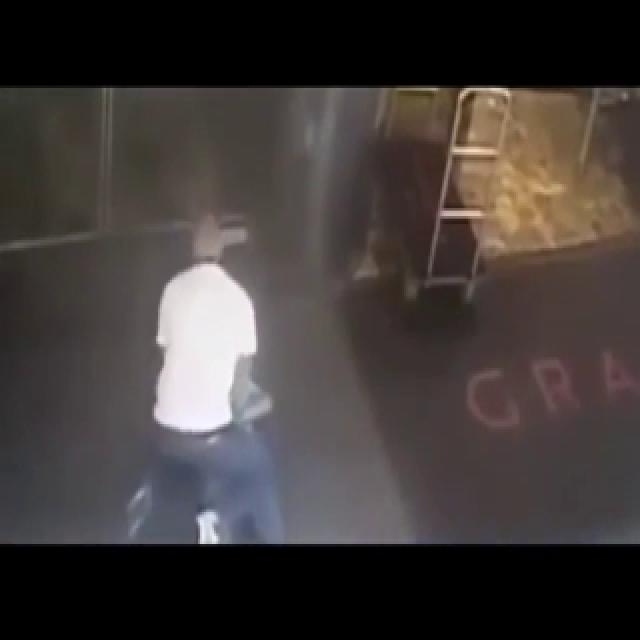arrest: (130, 152, 314, 560)
